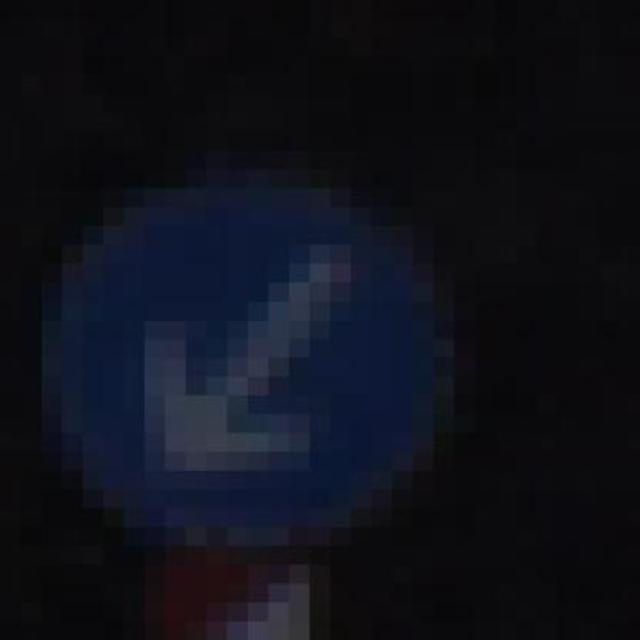Keep-Left: (62, 151, 476, 546)
